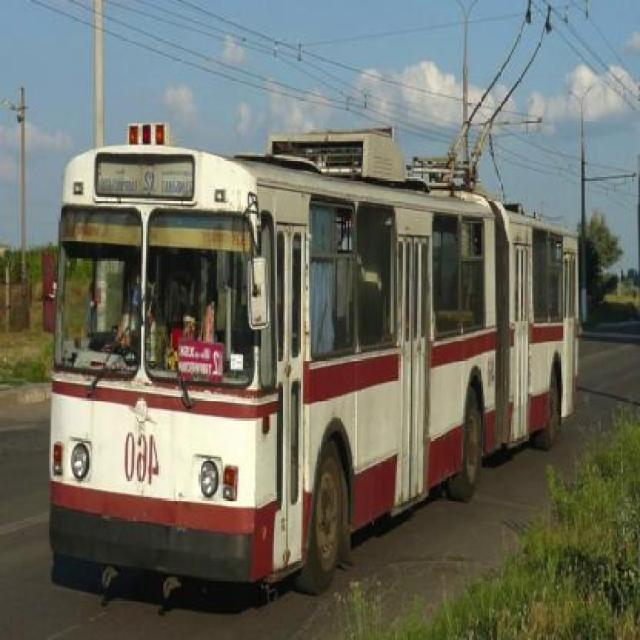bus: (49, 118, 581, 597)
